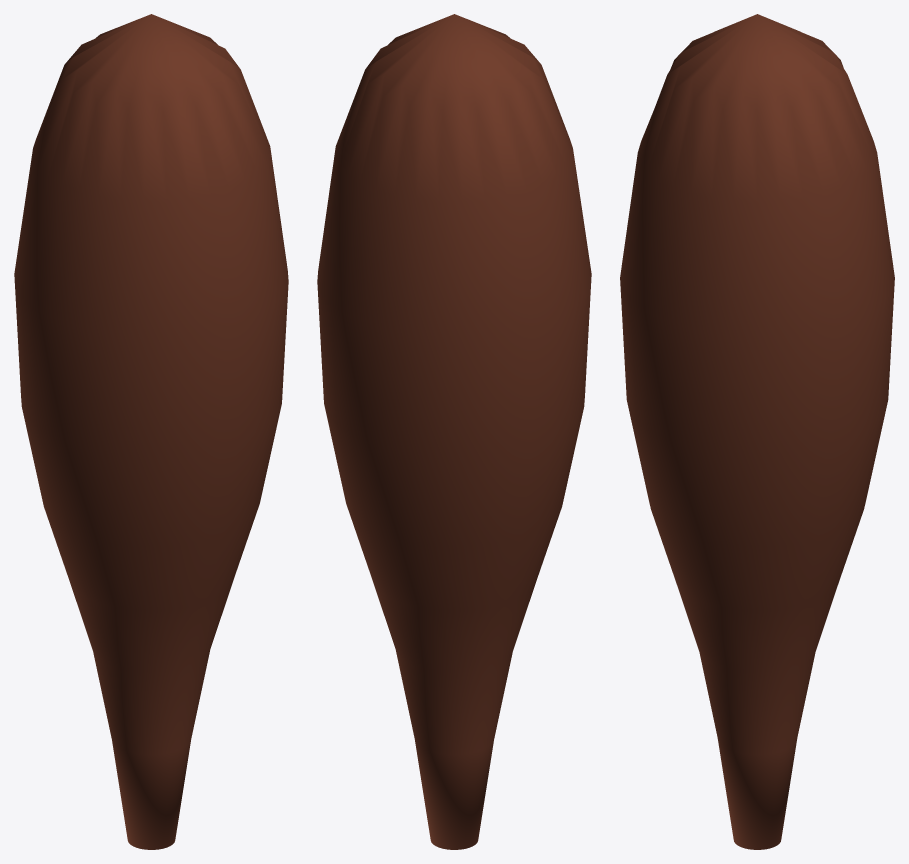
File: mace.fbx
The picture shows the model from 3 angles, left to right: view 1: azimuth 30°, elevation 25°; view 2: azimuth 150°, elevation 25°; view 3: azimuth 270°, elevation 25°; orthographic projection.
Visible parts, largest first — view 1: Cylinder.001; view 2: Cylinder.001; view 3: Cylinder.001.
Part boxes in pixels (x1,y1,x2,y2): Cylinder.001: (14,14,288,849); Cylinder.001: (317,14,591,849); Cylinder.001: (620,14,894,849).
Bounding box in the file's own units: 63.44 × 210 × 63.44.
